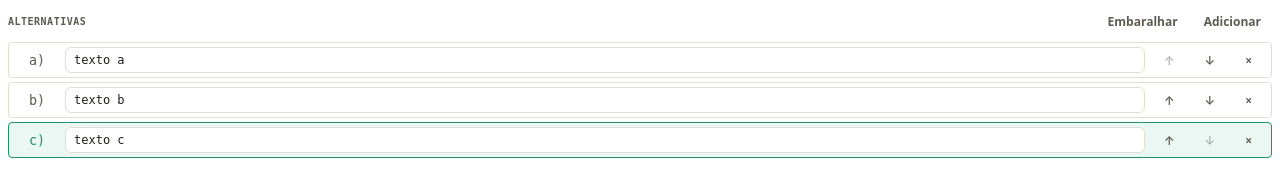
Test: OptionsEditor › embaralhado, a tela diz que nada foi gravado
Click the button "Embaralhar": click(1143, 21) [1097, 8, 1189, 34]
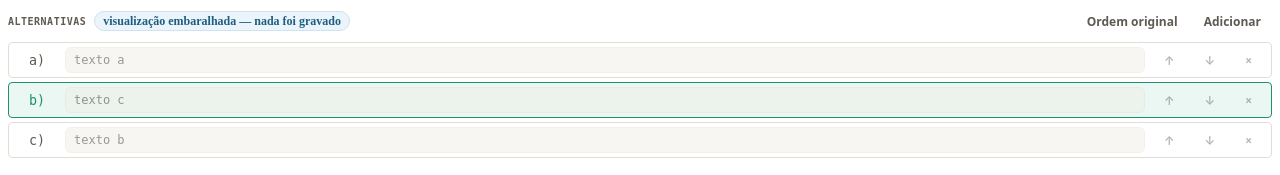
Expected: the text "visualização embaralhada — nada foi gravado" is shown, [94, 11, 350, 31]
